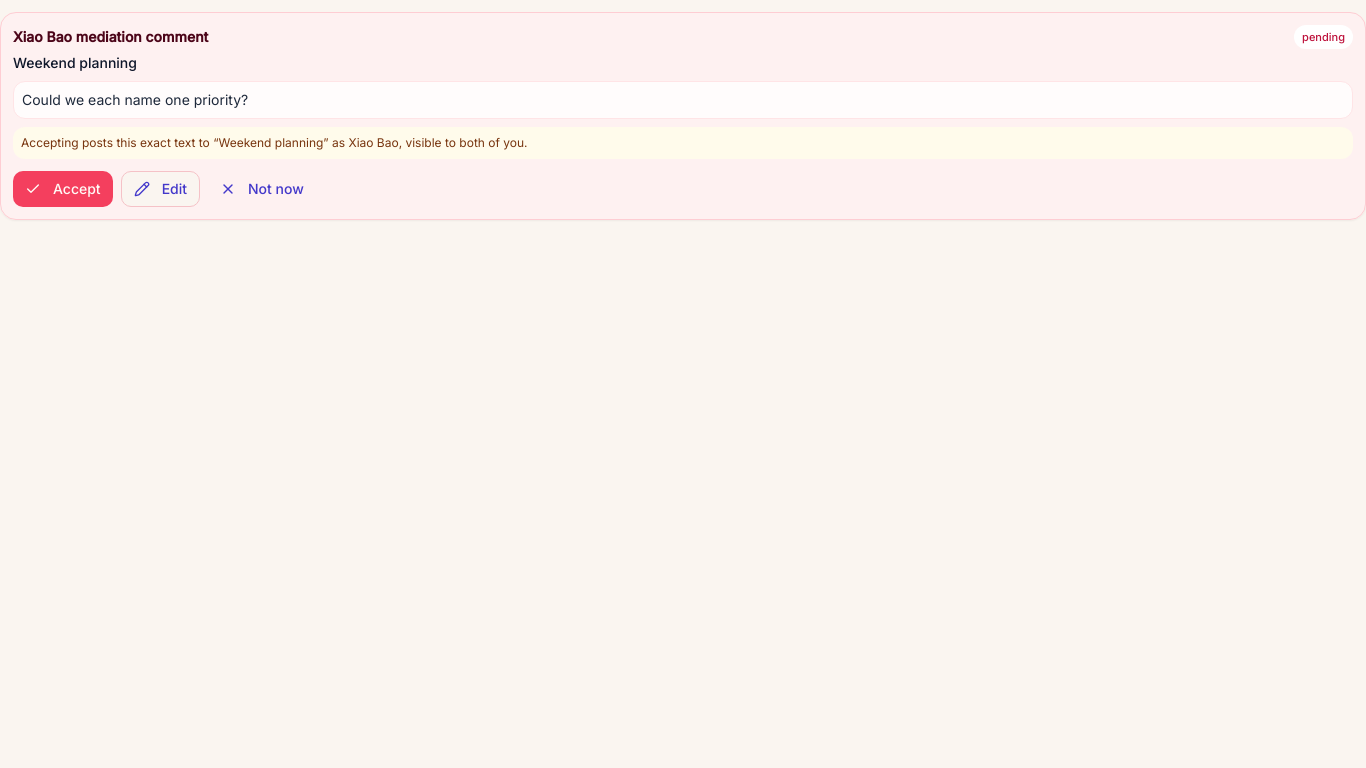
Scenario: Xiao Bao mediation proposal cards › shows the immutable mediation target and shared Xiao Bao warning
expect the text "Weekend planning" is shown: met, box x1=13 y1=54 x2=137 y2=71
Click the button "Edit": click(160, 189) x1=121 y1=171 x2=200 y2=207
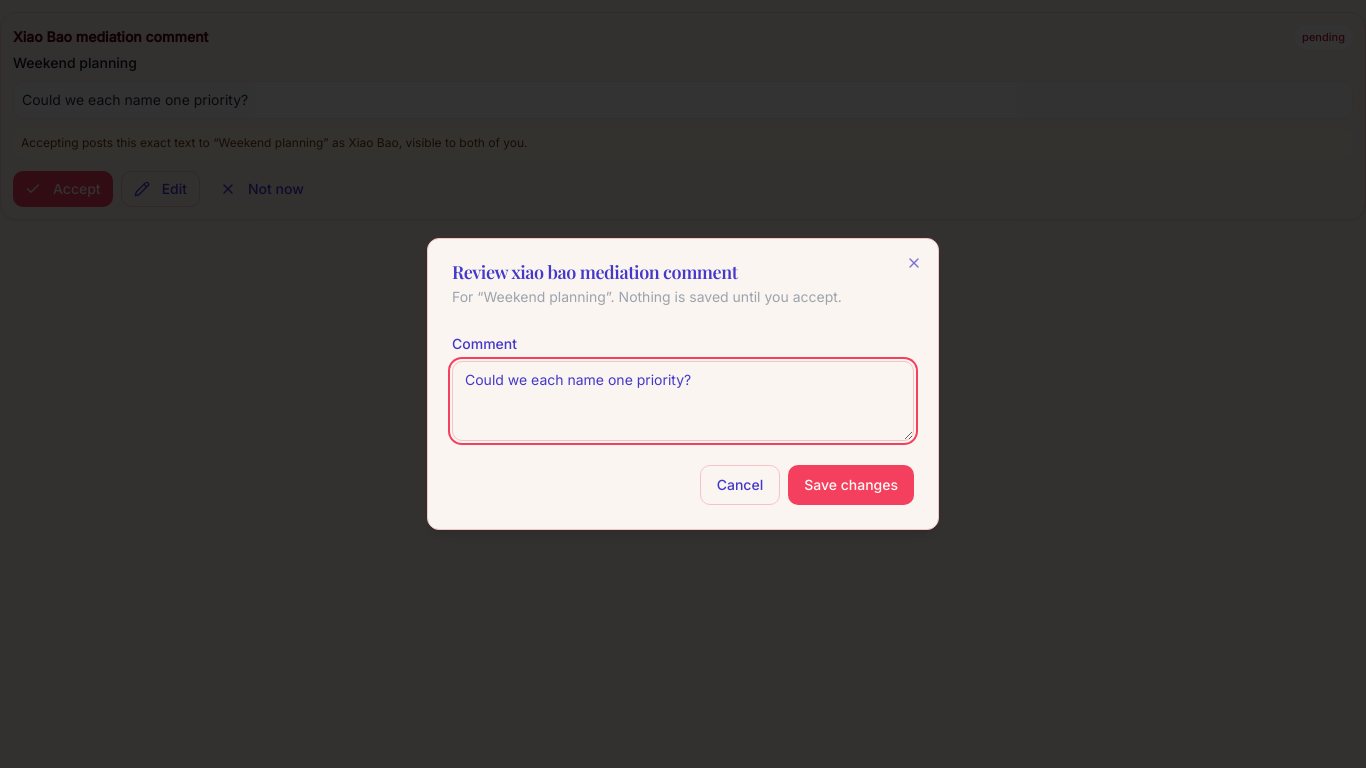
expect the text box labelled "Comment" holds "Could we each name one priority?": met, box x1=452 y1=361 x2=914 y2=441
